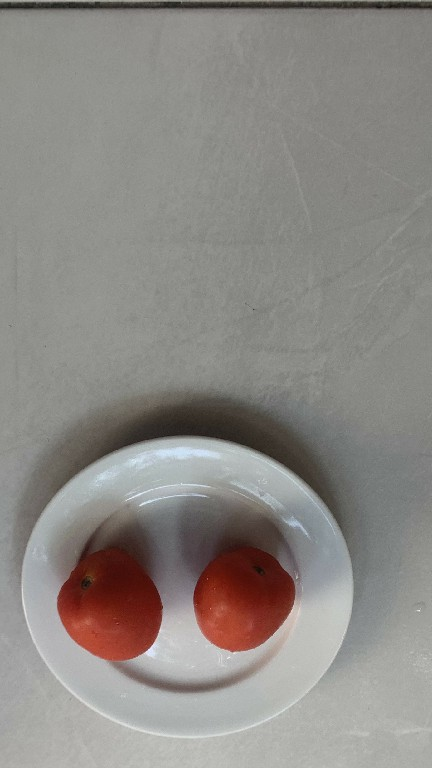OK: (188, 537, 303, 661), (52, 543, 156, 669)
